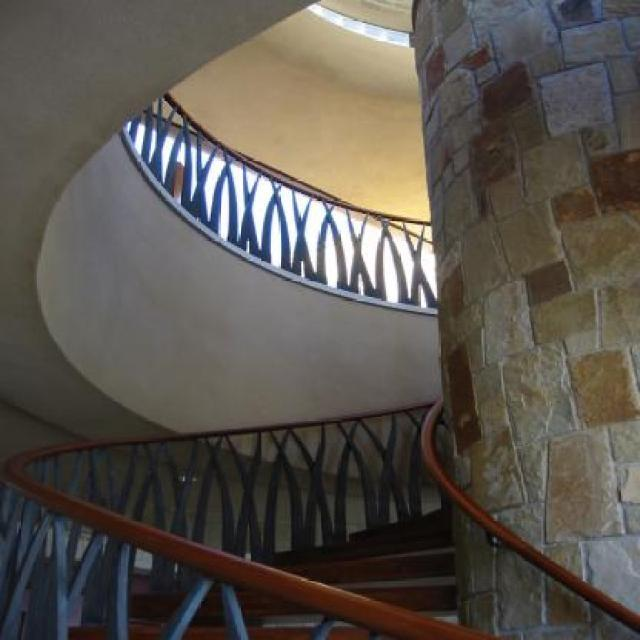stair: (68, 498, 456, 640)
